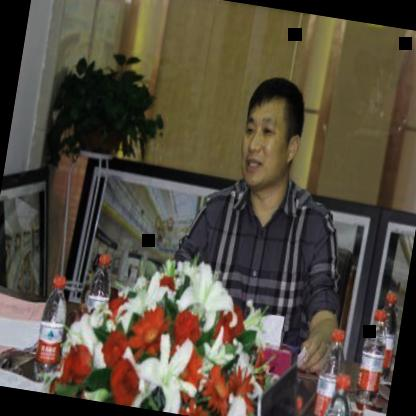head: (231, 63, 311, 198)
